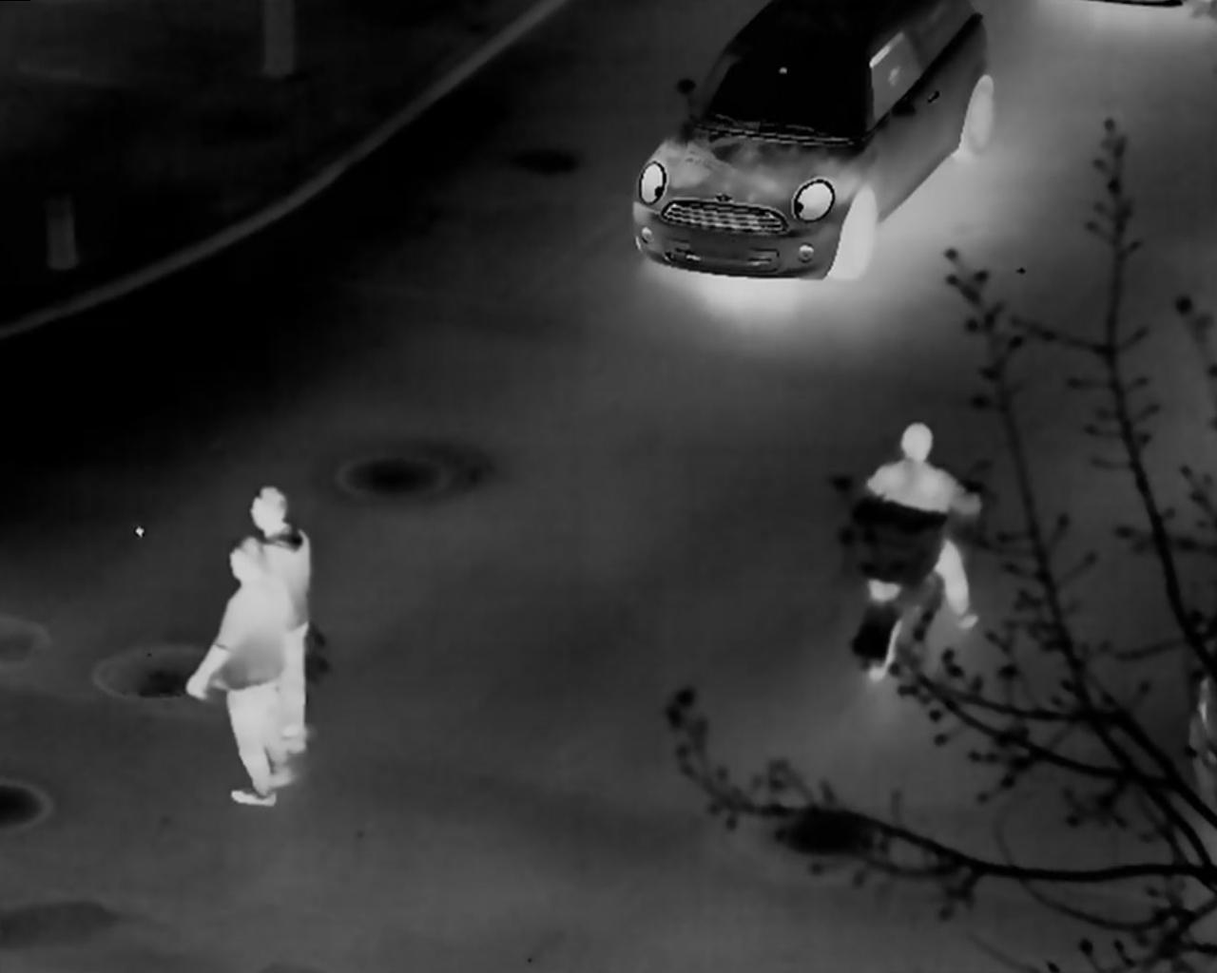person: (188, 536, 306, 791), (874, 413, 976, 617), (241, 486, 302, 740)
